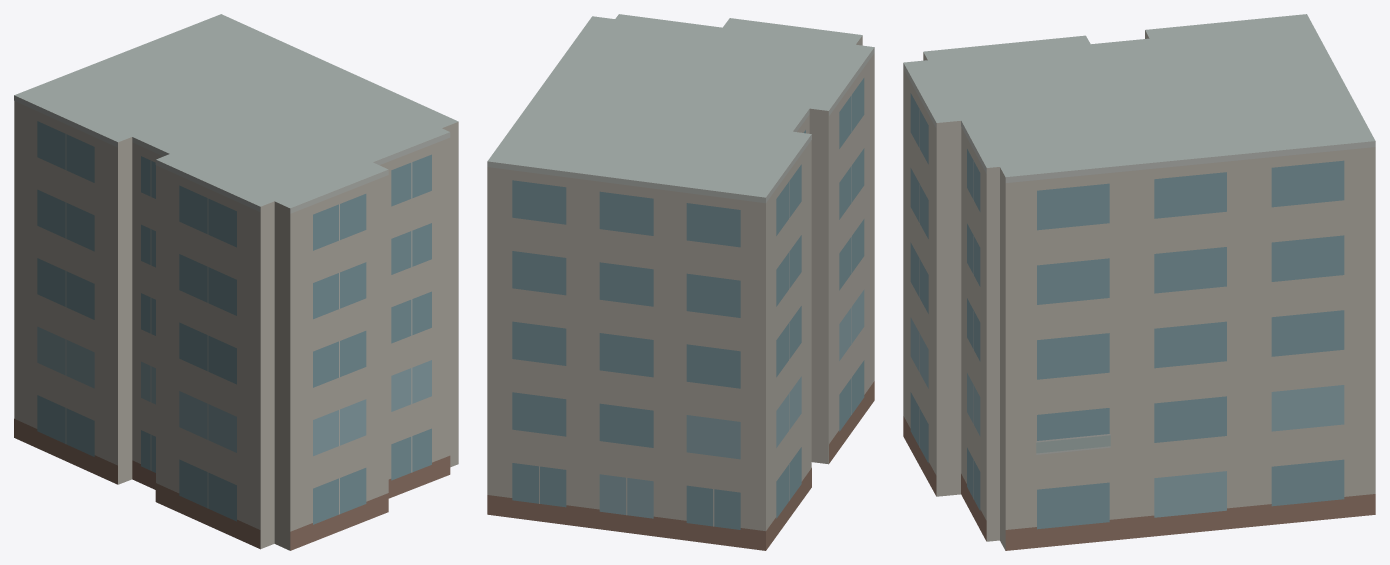
The model's file is survey-upis-32949597.glb.
3 views of the same model, side by side, from view 1: azimuth 30°, elevation 25°; view 2: azimuth 150°, elevation 25°; view 3: azimuth 270°, elevation 25° (orthographic). The views are drawn at different scales.
Parts seen in each view (by area): view 1: survey-upis-32949597.tmp; view 2: survey-upis-32949597.tmp; view 3: survey-upis-32949597.tmp.
Boxes of the visible parts, x1,y1,x2,y2 form: survey-upis-32949597.tmp: (14, 14, 458, 550); survey-upis-32949597.tmp: (487, 14, 874, 550); survey-upis-32949597.tmp: (903, 14, 1375, 550).
Size of the model in its own units: 14.29 by 15.25 by 17.48.
